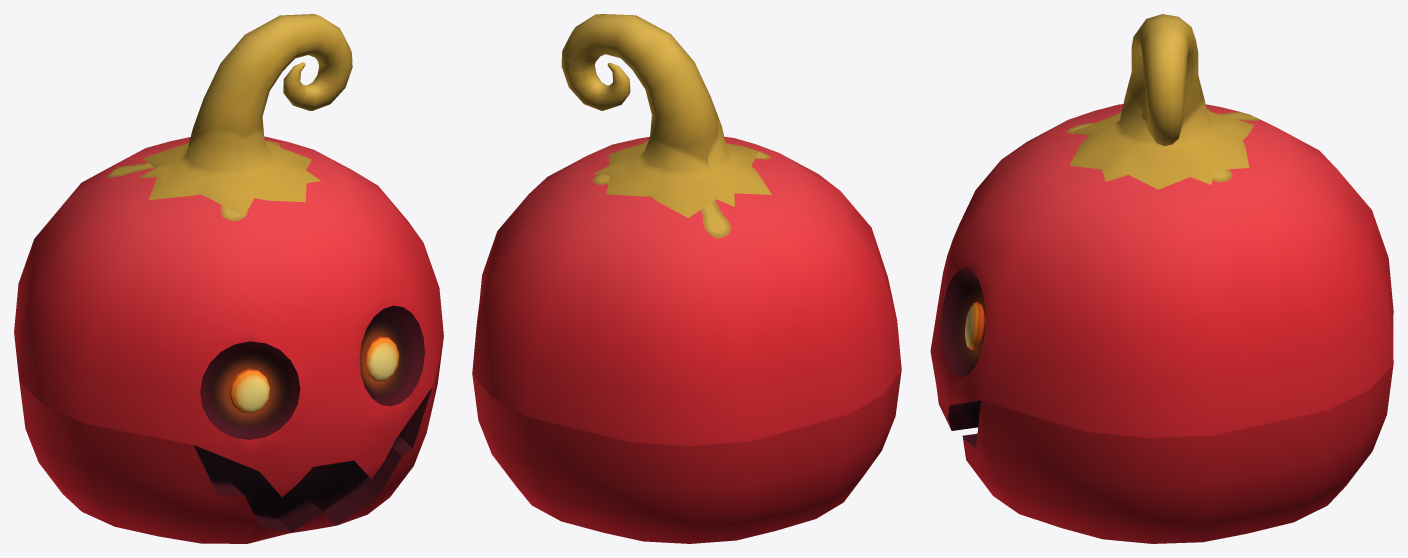
The model's file is Giant_Slime.fbx.
The picture shows the model from 3 angles, left to right: view 1: azimuth 30°, elevation 25°; view 2: azimuth 150°, elevation 25°; view 3: azimuth 270°, elevation 25°; orthographic projection. The views are drawn at different scales.
Parts seen in each view (by area): view 1: Giant_Slime_Below, Giant_Slime_Upper; view 2: Giant_Slime_Below, Giant_Slime_Upper; view 3: Giant_Slime_Below, Giant_Slime_Upper.
Boxes of the visible parts, box(x1,y1,x2,y2) form: Giant_Slime_Below: box(14, 14, 443, 497); Giant_Slime_Upper: box(19, 338, 443, 543); Giant_Slime_Below: box(472, 14, 901, 445); Giant_Slime_Upper: box(472, 370, 901, 543); Giant_Slime_Below: box(930, 14, 1393, 437); Giant_Slime_Upper: box(962, 365, 1393, 543).
Size of the model in its own units: 70.27 by 80.68 by 68.29.
